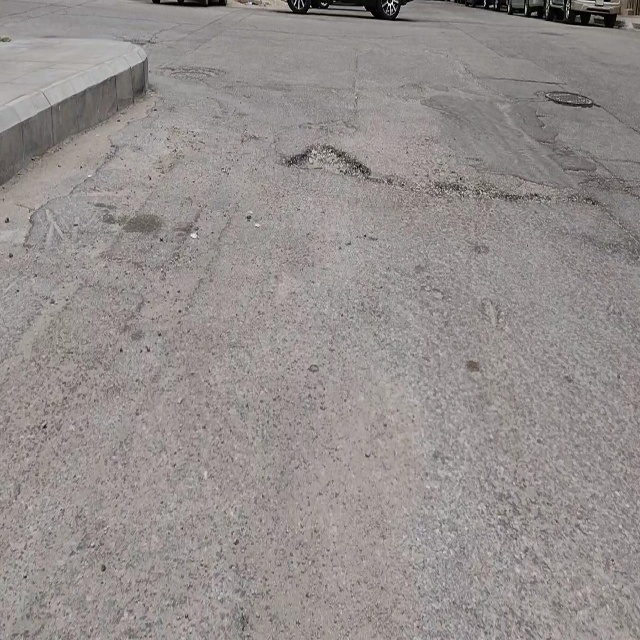pothole: (285, 137, 371, 181)
